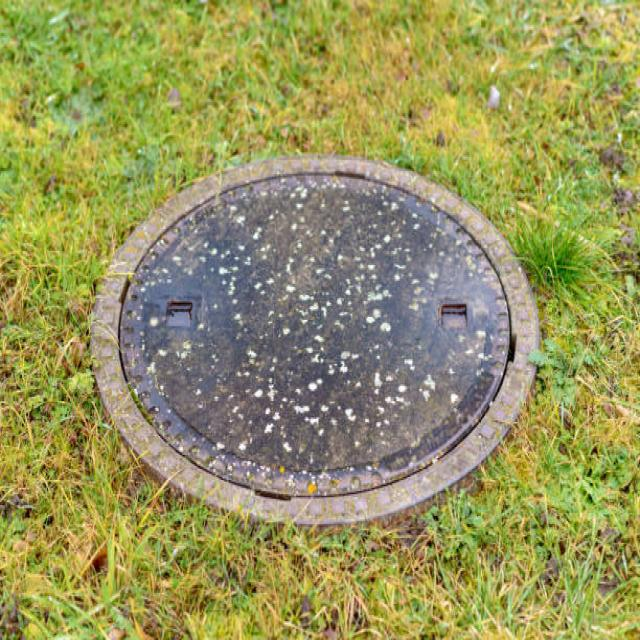Good: (89, 146, 548, 529)
